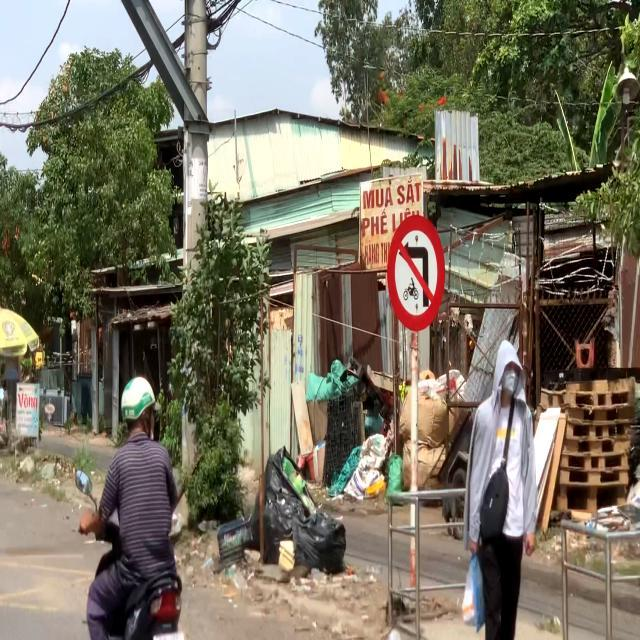P-123a: (388, 215, 444, 328)
